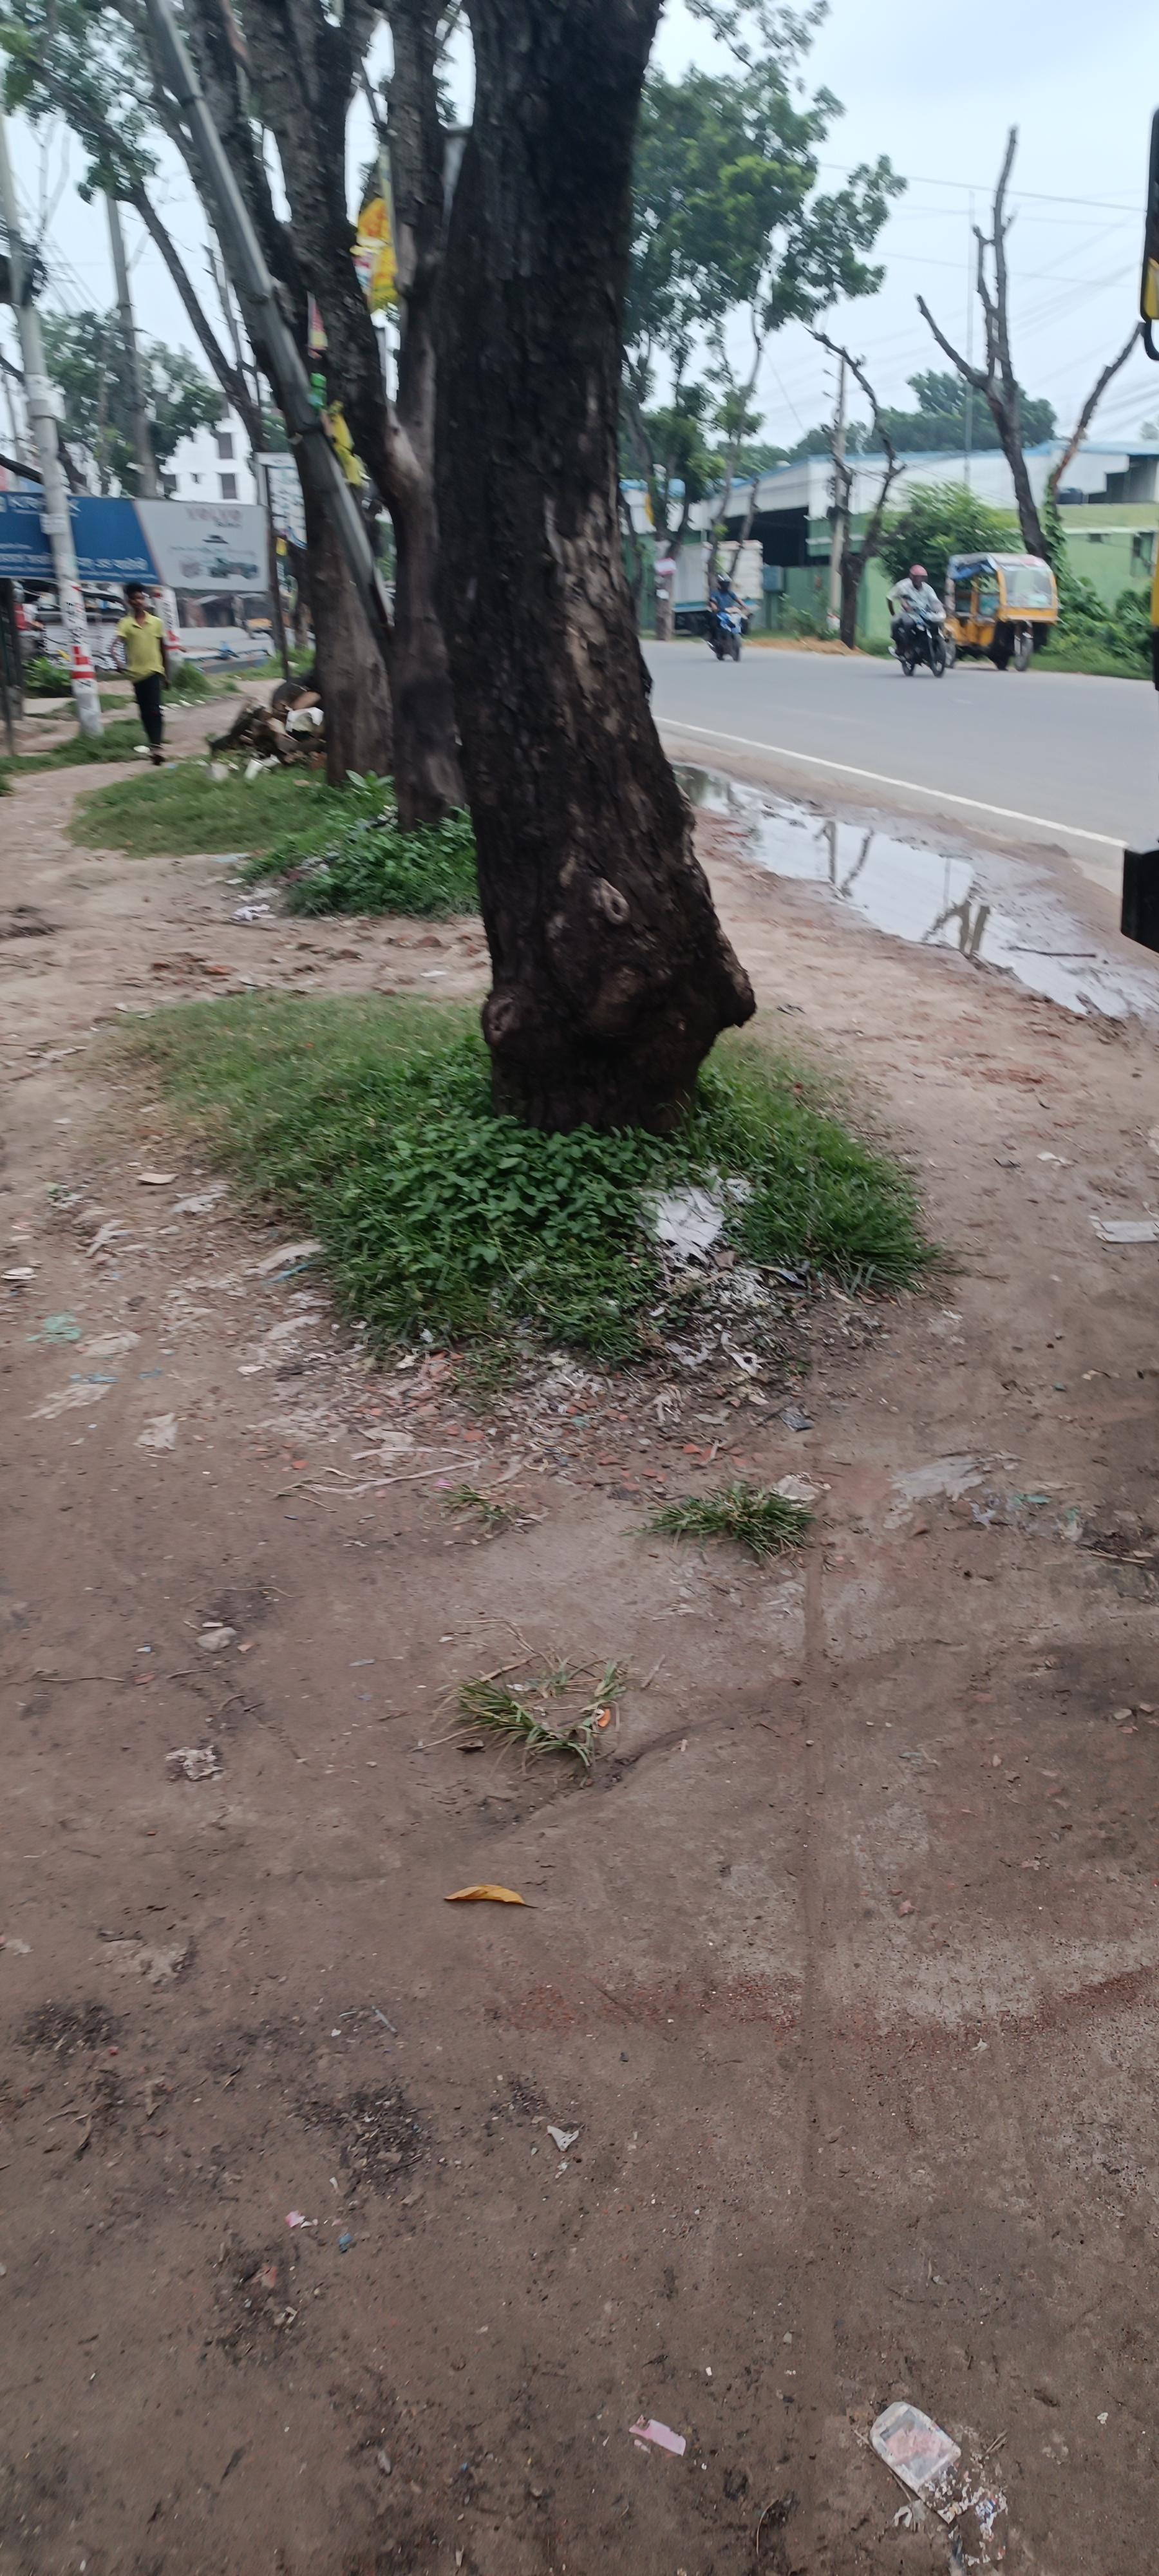Fallen-tree: (704, 595, 752, 660)
Garbage-bin: (115, 582, 172, 766), (888, 563, 949, 664)
Pothole: (5, 688, 1156, 2569)
